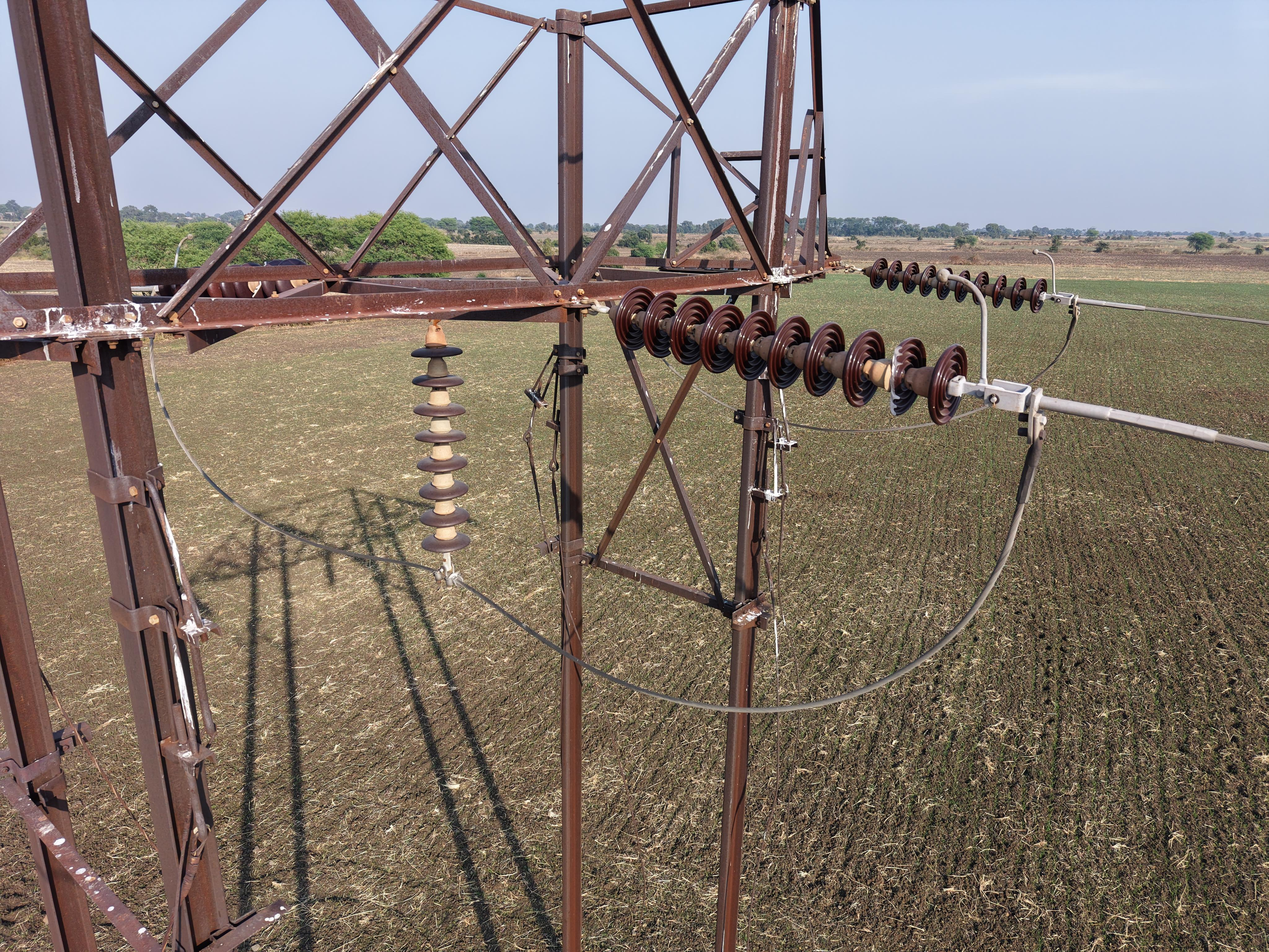broken_insulator: (884, 334, 926, 419), (642, 289, 679, 362)
